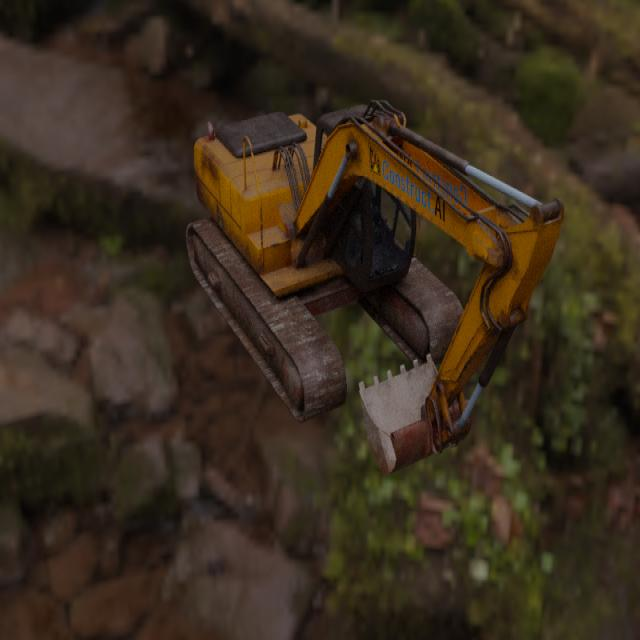excavator: (185, 98, 563, 474)
